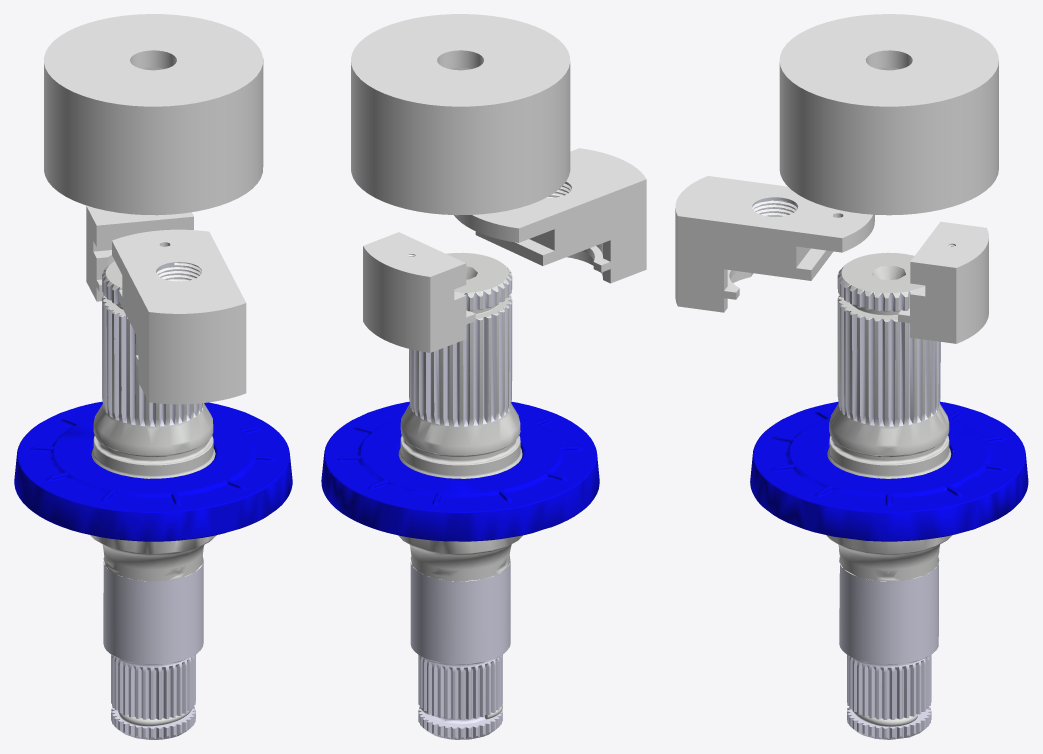
The model's file is shaft-adapter.glb.
3 renders of one model, left to right at view 1: azimuth 30°, elevation 25°; view 2: azimuth 150°, elevation 25°; view 3: azimuth 270°, elevation 25°, orthographic.
Parts seen in each view (by area): view 1: Sleeve-1, 0066249_04.stp-1, 0065955_03.stp-1, Shaft Adaptor A-1, Shaft Adaptor B-1; view 2: Sleeve-1, 0066249_04.stp-1, 0065955_03.stp-1, Shaft Adaptor A-1, Shaft Adaptor B-1; view 3: Sleeve-1, 0066249_04.stp-1, 0065955_03.stp-1, Shaft Adaptor A-1, Shaft Adaptor B-1.
Part boxes in pixels (x1,y1,x2,y2): Sleeve-1: (44,14,263,215); 0066249_04.stp-1: (90,261,216,739); 0065955_03.stp-1: (14,401,292,541); Shaft Adaptor A-1: (112,229,246,404); Shaft Adaptor B-1: (86,205,193,301); Sleeve-1: (351,14,570,215); 0066249_04.stp-1: (398,252,522,739); 0065955_03.stp-1: (321,401,599,541); Shaft Adaptor A-1: (454,148,646,283); Shaft Adaptor B-1: (363,232,475,352); Sleeve-1: (779,14,998,215); 0066249_04.stp-1: (826,252,952,739); 0065955_03.stp-1: (750,401,1028,541); Shaft Adaptor A-1: (675,176,874,312); Shaft Adaptor B-1: (898,221,988,343).
Bounding box in the file's own units: 0.0886 × 0.2332 × 0.1124.
